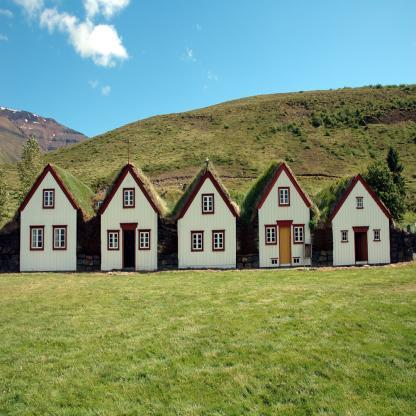Building Outline: (97, 163, 161, 271), (17, 163, 79, 271), (178, 171, 239, 269), (329, 173, 393, 266), (255, 162, 311, 267)
Door: (280, 227, 291, 266), (124, 230, 134, 271), (355, 231, 367, 265)
Facade: (21, 207, 77, 271), (101, 209, 157, 272), (258, 204, 311, 267), (332, 213, 390, 266), (178, 218, 236, 269)
Floor Slab: (332, 219, 389, 223), (178, 219, 236, 222), (21, 212, 77, 215), (101, 214, 157, 217), (258, 208, 309, 211)
Ground Floor: (21, 215, 77, 272), (101, 217, 157, 272), (258, 211, 311, 267), (178, 221, 236, 269), (332, 221, 390, 266)
Top Floor: (332, 179, 389, 220), (103, 171, 156, 213), (22, 170, 76, 211), (182, 178, 235, 218), (260, 169, 308, 209)
Window: (55, 228, 66, 248), (32, 228, 43, 248), (192, 234, 202, 250), (203, 196, 213, 212), (140, 232, 149, 248), (125, 190, 134, 206), (214, 233, 223, 249), (280, 189, 289, 205), (44, 191, 53, 206), (109, 233, 118, 248), (267, 228, 276, 243), (295, 227, 303, 242), (357, 198, 363, 208), (342, 232, 347, 242), (375, 231, 379, 240)
